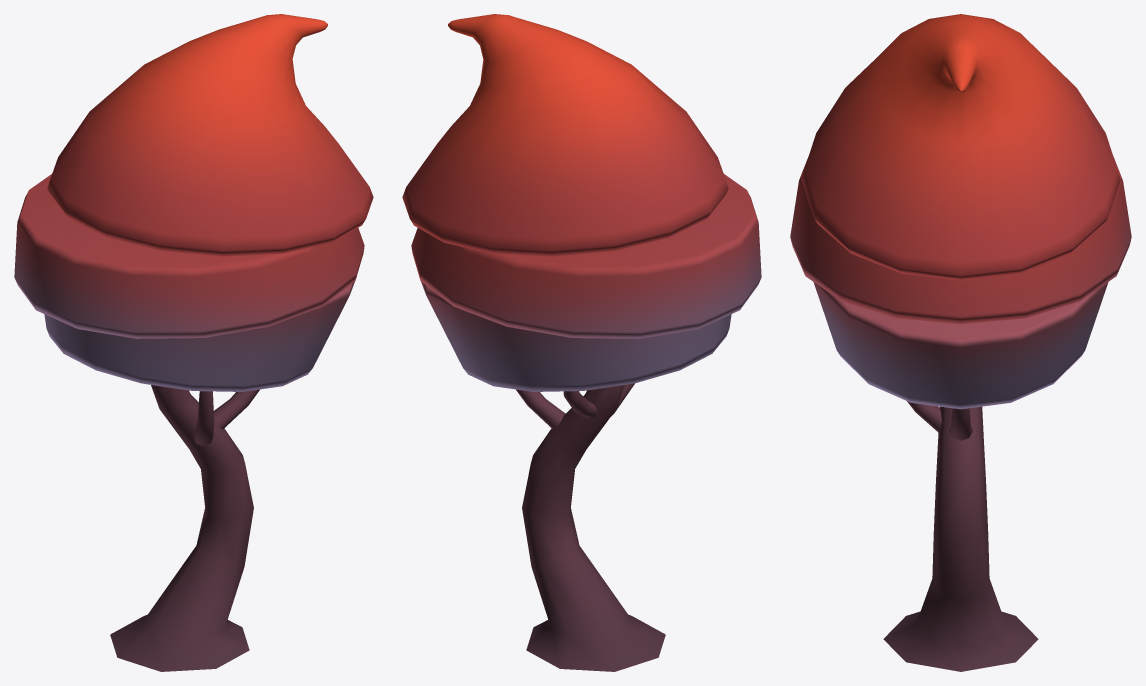
The model's file is tree_pack_16.glb.
3 renders of one model, left to right at view 1: azimuth 30°, elevation 25°; view 2: azimuth 150°, elevation 25°; view 3: azimuth 270°, elevation 25°, orthographic. The views are drawn at different scales.
Parts seen in each view (by area): view 1: Tree.016; view 2: Tree.016; view 3: Tree.016.
Boxes of the visible parts, box(x1,y1,x2,y2) form: Tree.016: box(14, 14, 373, 671); Tree.016: box(402, 14, 761, 671); Tree.016: box(790, 14, 1131, 671).
Size of the model in its own units: 3.03 by 5.4 by 2.57.
1 material, 1 textured.
